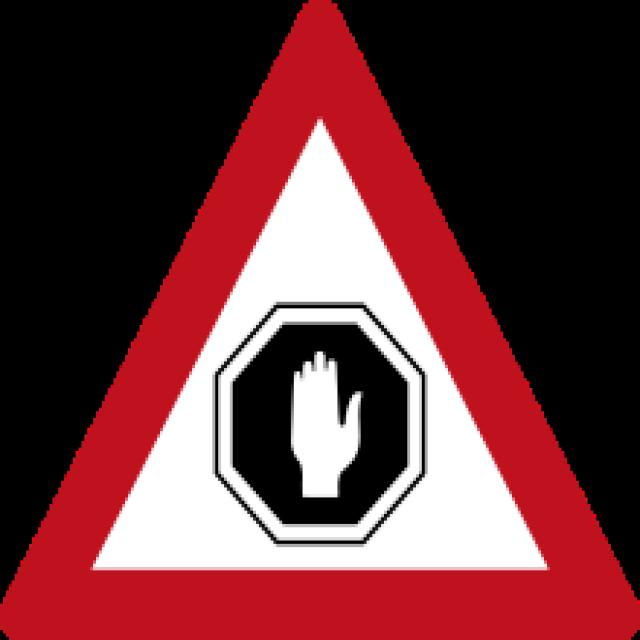Traffic sign: (85, 104, 598, 605)
